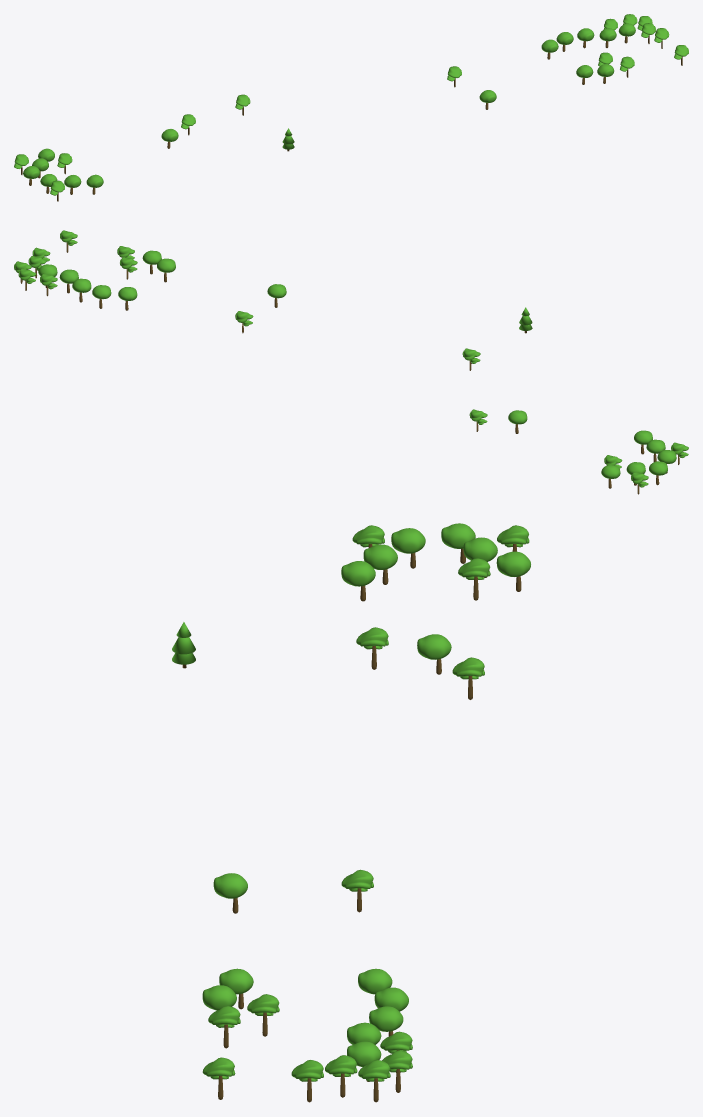
The model's file is pohon-level1.glb.
3 views of the same model, one above another, from view 1: azimuth 30°, elevation 25°; view 2: azimuth 150°, elevation 25°; view 3: azimuth 270°, elevation 25° (orthographic). The views are drawn at different scales.
Visible parts, largest first — view 1: Cube.009; view 2: Cube.009; view 3: Cube.009.
Boxes of the visible parts, x1,y1,x2,y2 form: Cube.009: [14, 14, 688, 201]; Cube.009: [14, 230, 688, 494]; Cube.009: [172, 523, 530, 1102].
Bounding box in the file's own units: 252 × 25.08 × 64.73.
